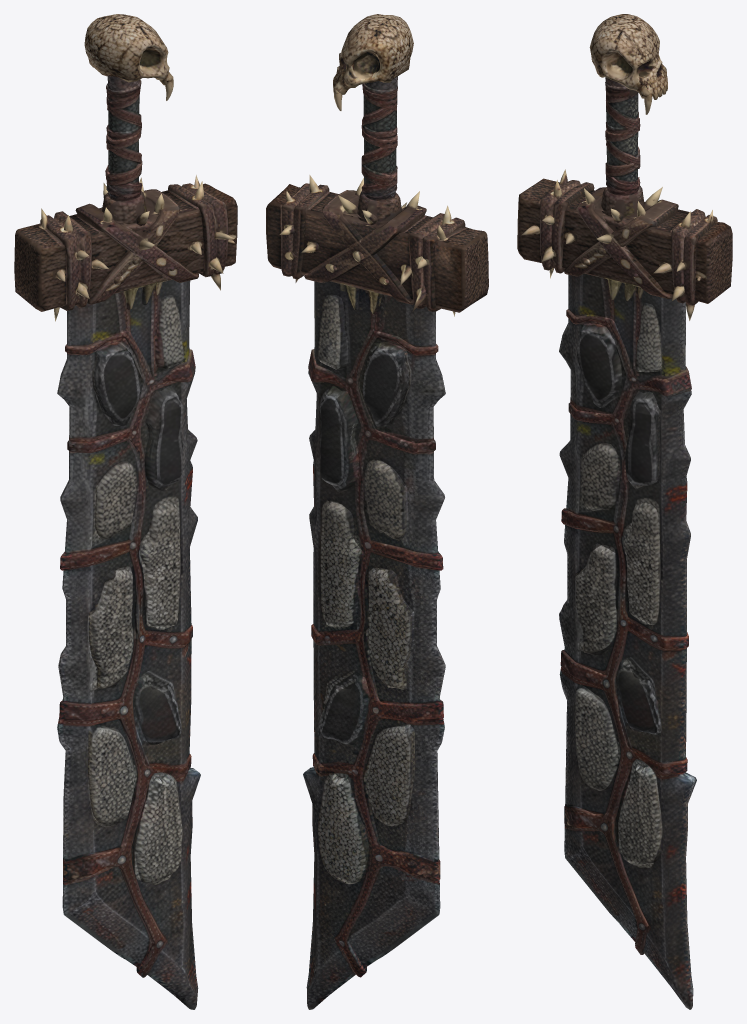
File: GreatSword.glb
3 renders of one model, left to right at view 1: azimuth 30°, elevation 25°; view 2: azimuth 150°, elevation 25°; view 3: azimuth 330°, elevation 25°, orthographic. The views are drawn at different scales.
Visible parts, largest first — view 1: cdb0a19a_2e97_49b3_88d3_ac87ed9bf224; view 2: cdb0a19a_2e97_49b3_88d3_ac87ed9bf224; view 3: cdb0a19a_2e97_49b3_88d3_ac87ed9bf224.
Part boxes in pixels (x1,y1,x2,y2): cdb0a19a_2e97_49b3_88d3_ac87ed9bf224: [14, 14, 237, 1009]; cdb0a19a_2e97_49b3_88d3_ac87ed9bf224: [266, 14, 488, 1009]; cdb0a19a_2e97_49b3_88d3_ac87ed9bf224: [517, 14, 732, 1009].
Size of the model in its own units: 0.2075 by 0.9995 by 0.1021.
1 material, 1 textured.
